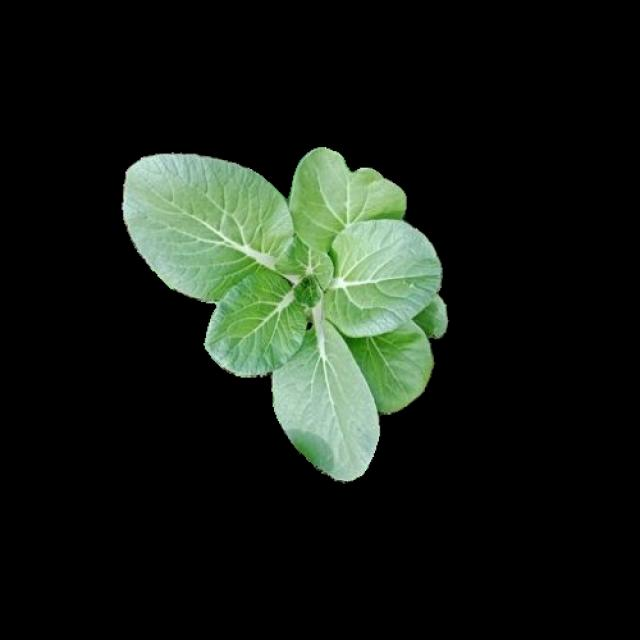healthy: (120, 146, 448, 479)
not-mature: (123, 148, 450, 482)
